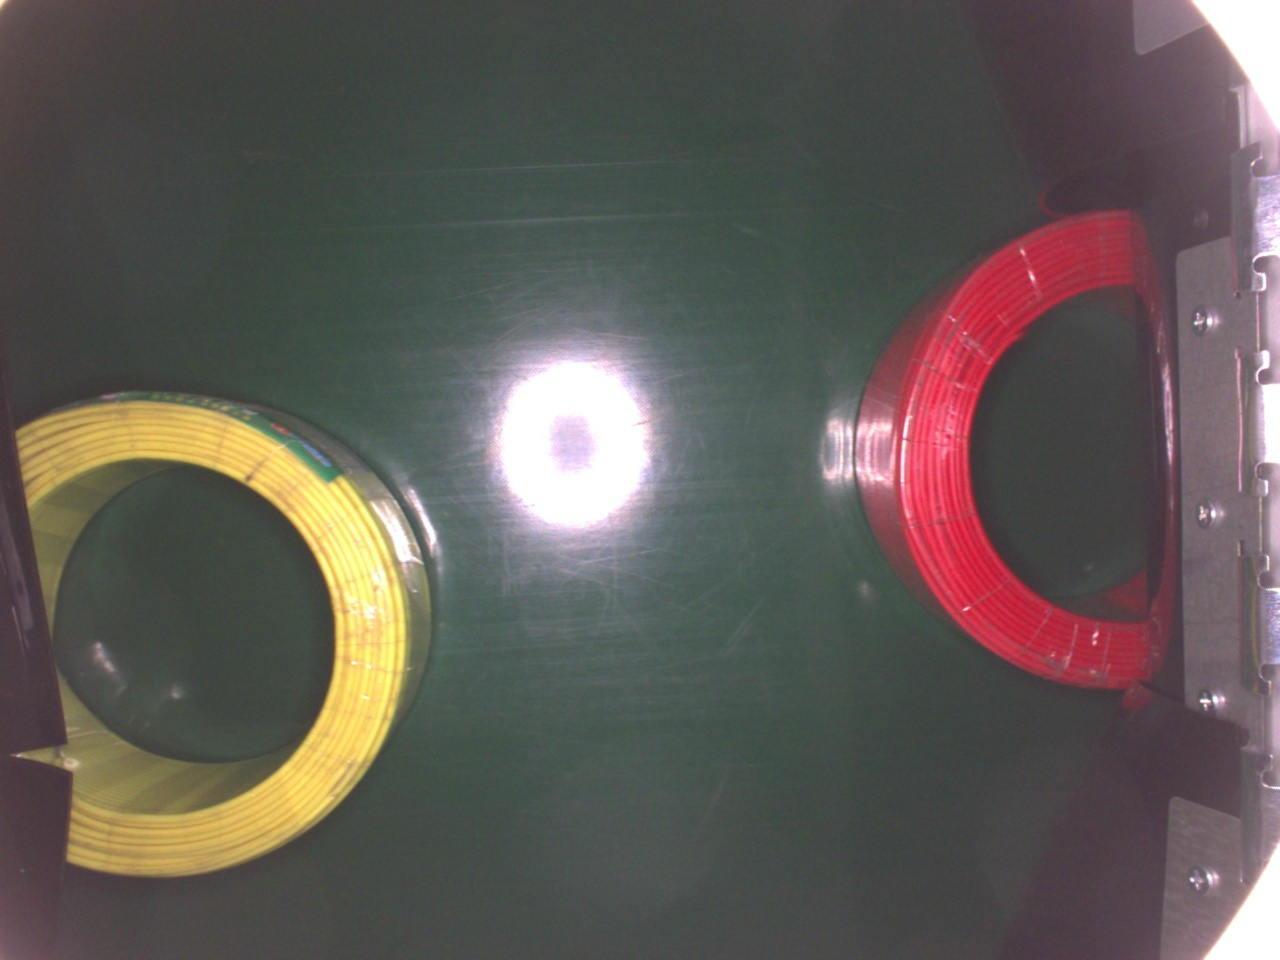red: (847, 210, 1156, 694)
yellow: (9, 388, 431, 879)
